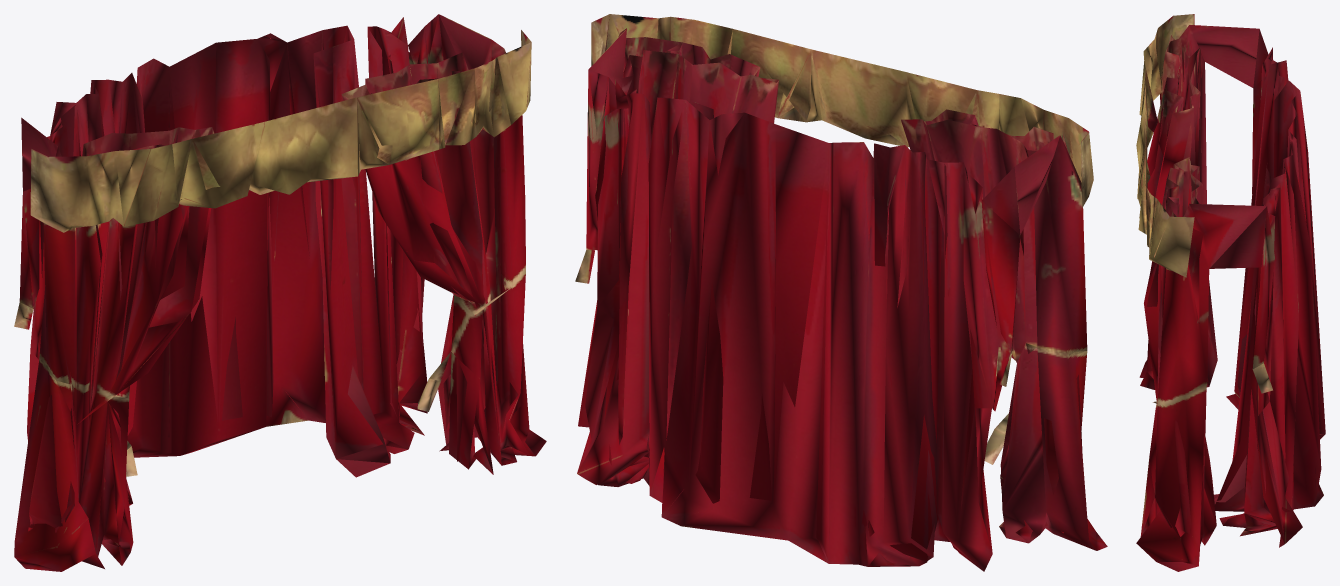
Rendered from 01_curtain_grand.fbx.
3 views of the same model, side by side, from view 1: azimuth 30°, elevation 25°; view 2: azimuth 150°, elevation 25°; view 3: azimuth 270°, elevation 25° (orthographic). The views are drawn at different scales.
Parts seen in each view (by area): view 1: Mesh1.0; view 2: Mesh1.0; view 3: Mesh1.0.
Boxes of the visible parts, x1,y1,x2,y2 form: Mesh1.0: [14, 14, 546, 571]; Mesh1.0: [575, 14, 1107, 571]; Mesh1.0: [1136, 14, 1325, 571].
Size of the model in its own units: 189 by 143 by 69.91.
Materials: 1 (1 with a texture image).
